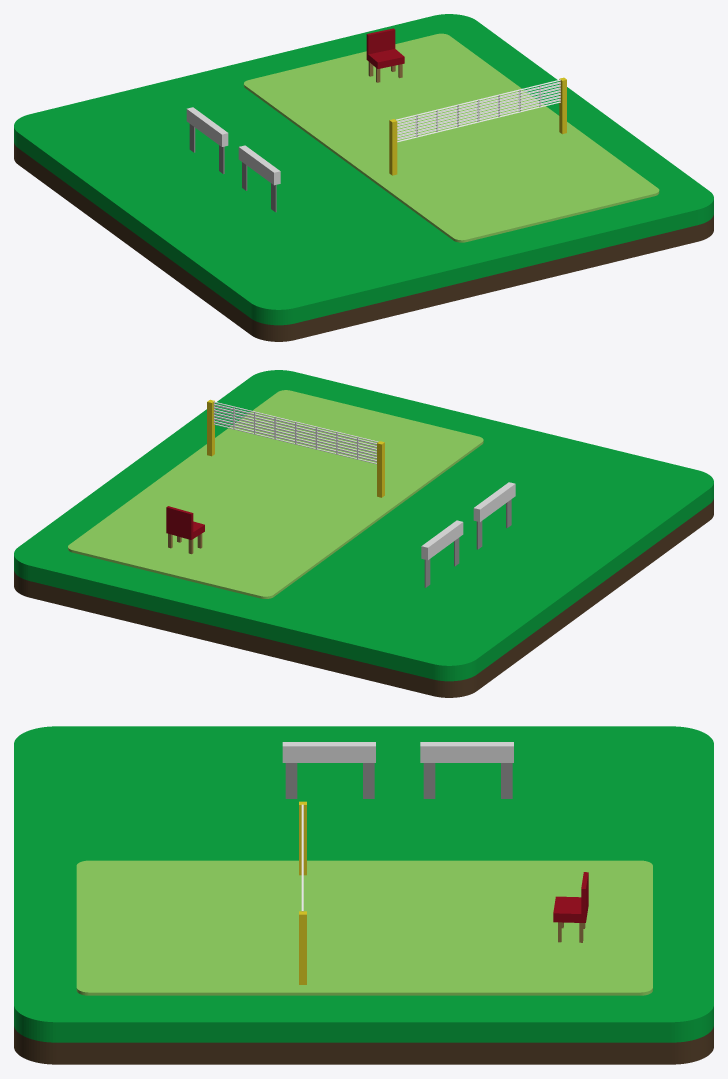
The model's file is island4.glb.
3 views of the same model, one above another, from view 1: azimuth 30°, elevation 25°; view 2: azimuth 150°, elevation 25°; view 3: azimuth 270°, elevation 25° (orthographic). The views are drawn at different scales.
Visible parts, largest first — view 1: Island5, Plane, Plane.004, Plane.005, Plane.001, Plane.002, Plane.003; view 2: Island5, Plane, Plane.004, Plane.005, Plane.001, Plane.002, Plane.003; view 3: Island5, Plane, Plane.001, Plane.002, Plane.005, Plane.003.
Part boxes in pixels (x1=…): Island5: x1=14, y1=14, x2=713, y2=341; Plane: x1=243, y1=33, x2=659, y2=242; Plane.004: x1=396, y1=79, x2=560, y2=142; Plane.005: x1=366, y1=28, x2=404, y2=82; Plane.001: x1=186, y1=107, x2=228, y2=173; Plane.002: x1=238, y1=145, x2=280, y2=212; Plane.003: x1=389, y1=77, x2=566, y2=175; Island5: x1=14, y1=370, x2=713, y2=697; Plane: x1=68, y1=390, x2=483, y2=598; Plane.004: x1=213, y1=401, x2=378, y2=464; Plane.005: x1=166, y1=506, x2=204, y2=554; Plane.001: x1=421, y1=520, x2=463, y2=587; Plane.002: x1=473, y1=482, x2=515, y2=549; Plane.003: x1=207, y1=399, x2=384, y2=497; Island5: x1=14, y1=726, x2=713, y2=1064; Plane: x1=76, y1=860, x2=652, y2=995; Plane.001: x1=420, y1=742, x2=513, y2=798; Plane.002: x1=282, y1=742, x2=375, y2=798; Plane.005: x1=553, y1=872, x2=588, y2=942; Plane.003: x1=299, y1=801, x2=306, y2=984.
Bounding box in the file's own units: 6 × 1.11 × 6.
